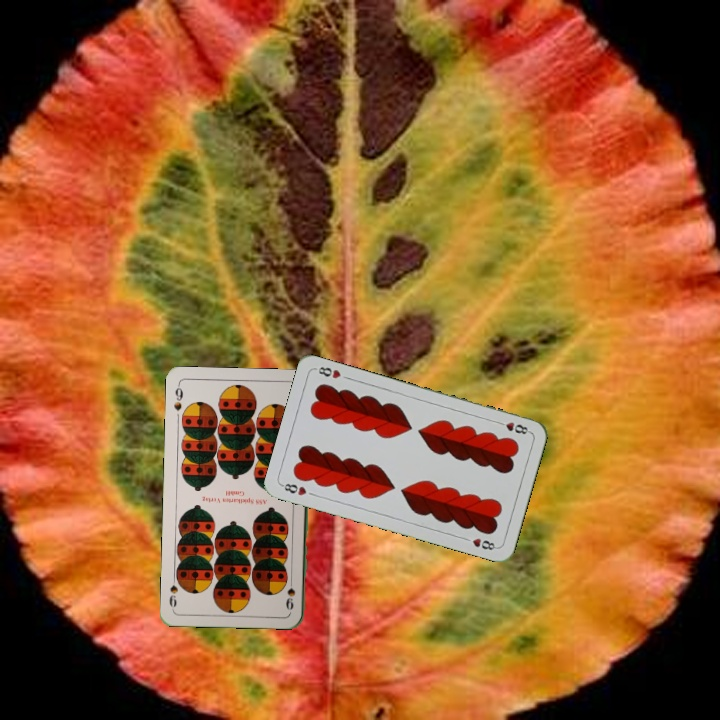H8: (492, 417, 532, 437), (278, 479, 309, 498)
S9: (284, 572, 297, 612), (170, 381, 185, 413)
